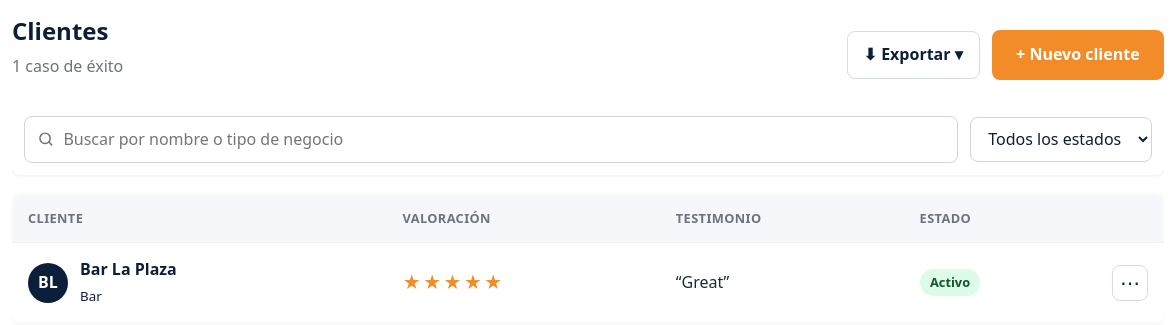
admin CRUD screens › Clientes: searches, filters by status and clears the filters
Type "nada" into the search field with test id "filter-search". click: (491,139)
box: [24, 116, 958, 163]
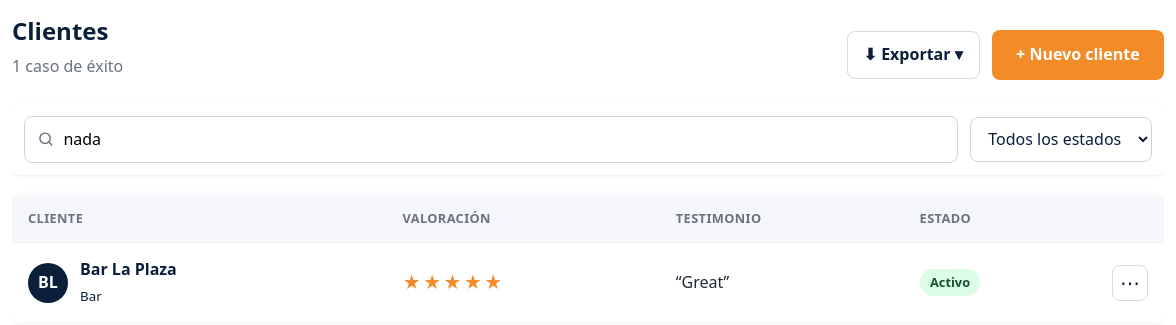
Press Enter in the search field with test id "filter-search", box [24, 116, 958, 163]
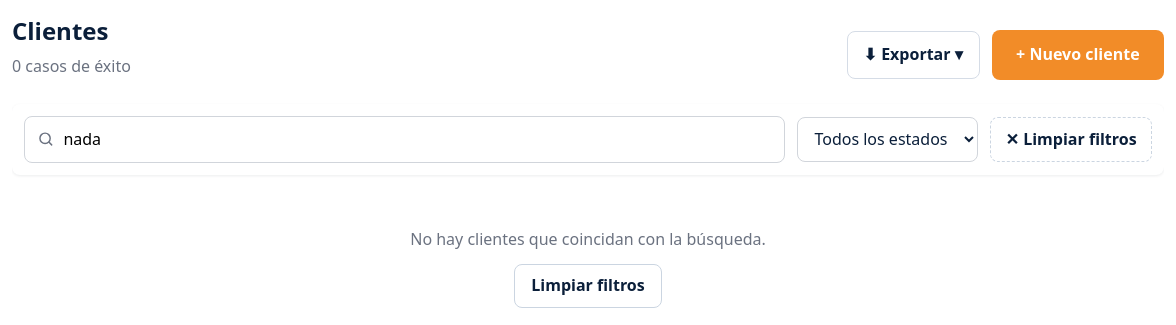
Select "Inactivos" in the dropdown with test id "filter-status". click: (887,139)
box: [797, 117, 978, 162]
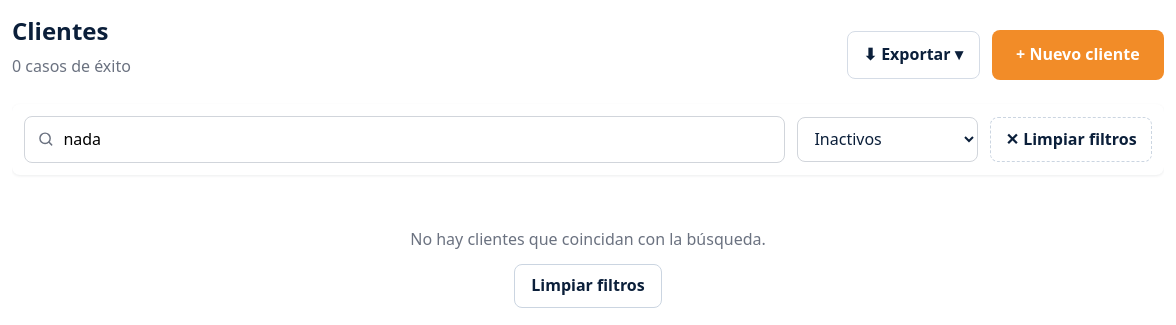
Check: the message with test id "filter-no-results" shows "No hay clientes que coincidan", box [410, 228, 766, 250]
Click the button "Limpiar filtros". click: (588,286)
box: [514, 264, 662, 308]
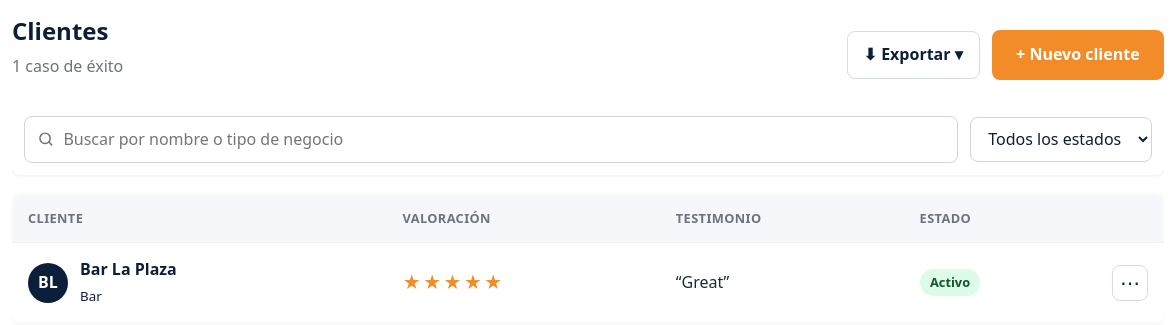
Check: the search field with test id "filter-search" is empty, box [24, 116, 958, 163]
Check: the text "Bar La Plaza" is shown, box [80, 258, 177, 280]
